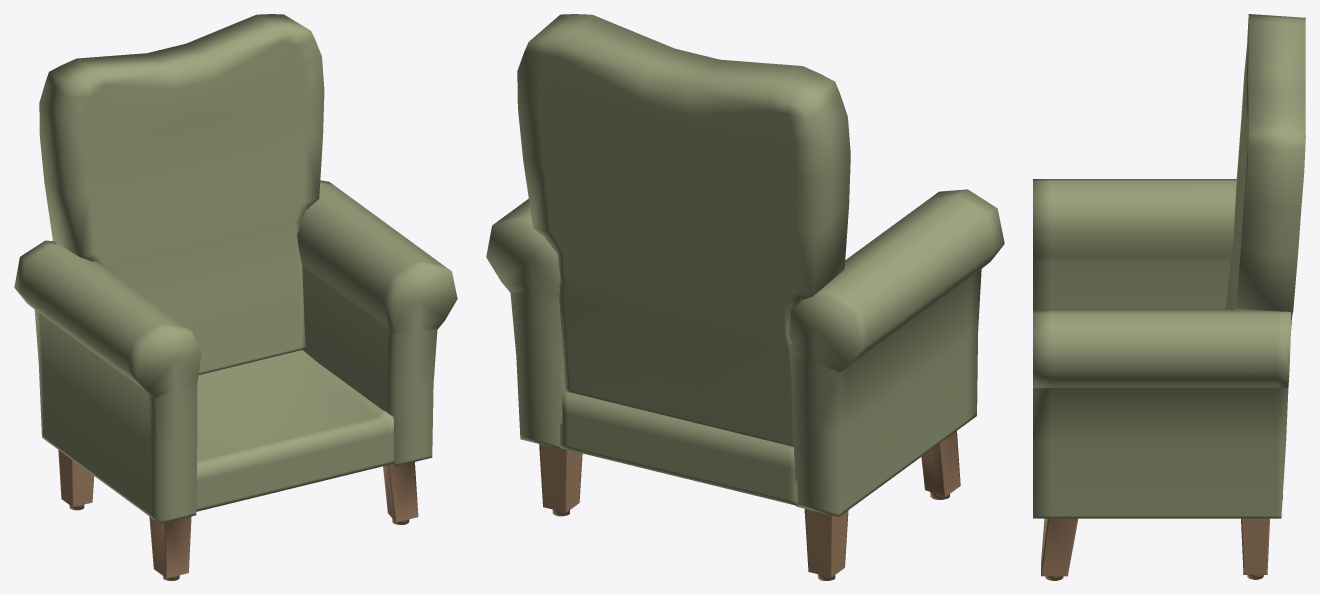
Rendered from chair3.dae.
The picture shows the model from 3 angles, left to right: view 1: azimuth 30°, elevation 25°; view 2: azimuth 150°, elevation 25°; view 3: azimuth 270°, elevation 25°; orthographic projection. The views are drawn at different scales.
Visible parts, largest first — view 1: chairGroup_Backrest, chairGroup_Sides, Cushion_chairGroup, chairGroup_Front_foot, chairGroup_Back_foot; view 2: chairGroup_Backrest, chairGroup_Sides, Cushion_chairGroup, chairGroup_Back_foot, chairGroup_Front_foot; view 3: chairGroup_Sides, chairGroup_Backrest, chairGroup_Front_foot, chairGroup_Back_foot.
Part boxes in pixels (x1=…): chairGroup_Backrest: x1=39, y1=14, x2=324, y2=374; chairGroup_Sides: x1=14, y1=180, x2=457, y2=523; Cushion_chairGroup: x1=196, y1=350, x2=394, y2=511; chairGroup_Front_foot: x1=149, y1=462, x2=418, y2=580; chairGroup_Back_foot: x1=58, y1=450, x2=94, y2=510; chairGroup_Backrest: x1=517, y1=14, x2=850, y2=446; chairGroup_Sides: x1=486, y1=189, x2=1004, y2=516; Cushion_chairGroup: x1=560, y1=391, x2=797, y2=505; chairGroup_Back_foot: x1=539, y1=444, x2=848, y2=580; chairGroup_Front_foot: x1=921, y1=431, x2=960, y2=499; chairGroup_Sides: x1=1033, y1=179, x2=1291, y2=518; chairGroup_Backrest: x1=1225, y1=14, x2=1305, y2=335; chairGroup_Front_foot: x1=1041, y1=518, x2=1078, y2=580; chairGroup_Back_foot: x1=1241, y1=518, x2=1269, y2=579.
Bounding box in the file's own units: 8.84 × 6.18 × 11.27.
